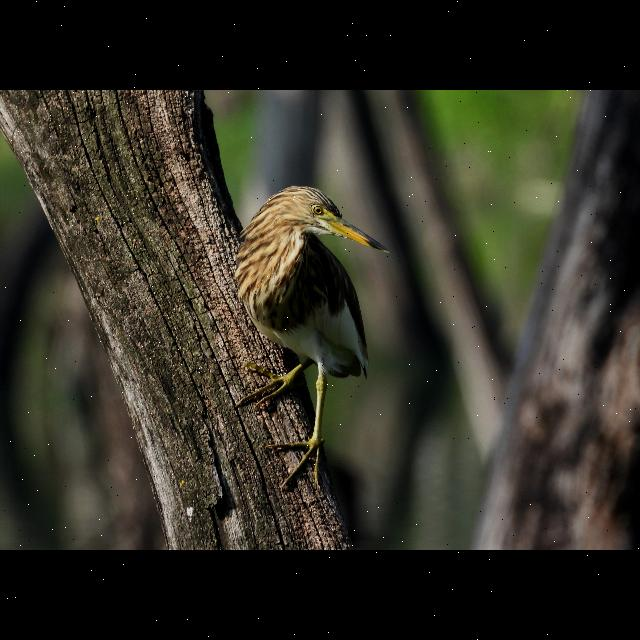heron: (220, 172, 394, 488)
